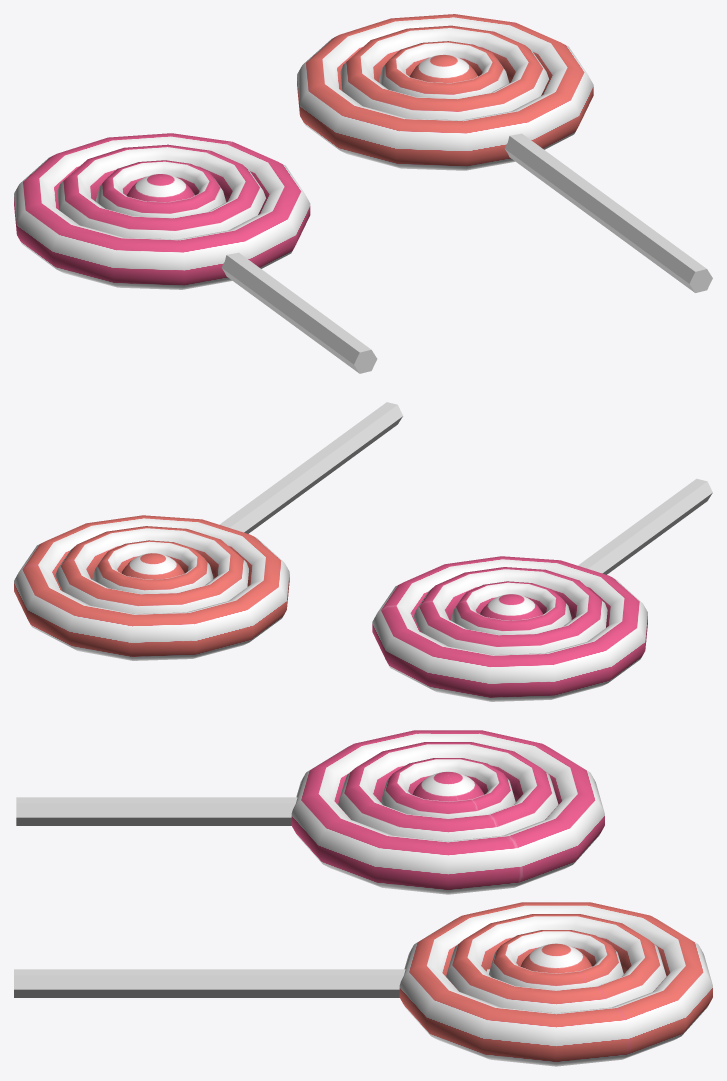
File: candy1.fbx
3 renders of one model, top to bottom at view 1: azimuth 30°, elevation 25°; view 2: azimuth 150°, elevation 25°; view 3: azimuth 270°, elevation 25°, orthographic. The views are drawn at different scales.
Parts seen in each view (by area): view 1: pasted__pTorus1, pTorus1, pasted__pTorus2, pTorus2, pasted__pCylinder1, pCylinder1, pTorus3, pasted__pTorus3, pSphere1, pasted__pSphere1; view 2: pasted__pTorus1, pTorus1, pTorus2, pasted__pTorus2, pasted__pCylinder1, pasted__pTorus3, pTorus3, pCylinder1, pasted__pSphere1, pSphere1; view 3: pasted__pTorus1, pTorus1, pasted__pCylinder1, pTorus2, pasted__pTorus2, pCylinder1, pTorus3, pasted__pTorus3, pasted__pSphere1, pSphere1.
Boxes of the visible parts, x1=… form: pasted__pTorus1: x1=297, y1=14, x2=593, y2=170; pTorus1: x1=14, y1=133, x2=310, y2=289; pasted__pTorus2: x1=340, y1=25, x2=548, y2=120; pTorus2: x1=57, y1=144, x2=265, y2=239; pasted__pCylinder1: x1=504, y1=133, x2=712, y2=292; pCylinder1: x1=221, y1=252, x2=377, y2=373; pTorus3: x1=96, y1=160, x2=226, y2=217; pasted__pTorus3: x1=379, y1=41, x2=509, y2=98; pSphere1: x1=126, y1=174, x2=194, y2=202; pasted__pSphere1: x1=409, y1=54, x2=477, y2=82; pasted__pTorus1: x1=14, y1=515, x2=289, y2=660; pTorus1: x1=372, y1=556, x2=647, y2=701; pTorus2: x1=413, y1=567, x2=607, y2=654; pasted__pTorus2: x1=55, y1=526, x2=248, y2=613; pasted__pCylinder1: x1=219, y1=402, x2=402, y2=533; pasted__pTorus3: x1=92, y1=540, x2=213, y2=593; pTorus3: x1=450, y1=581, x2=571, y2=634; pCylinder1: x1=578, y1=478, x2=712, y2=574; pasted__pSphere1: x1=121, y1=553, x2=184, y2=579; pSphere1: x1=480, y1=594, x2=543, y2=620; pasted__pTorus1: x1=399, y1=902, x2=712, y2=1066; pTorus1: x1=291, y1=730, x2=604, y2=894; pasted__pCylinder1: x1=14, y1=969, x2=489, y2=997; pTorus2: x1=338, y1=742, x2=558, y2=841; pasted__pTorus2: x1=446, y1=914, x2=666, y2=1013; pCylinder1: x1=16, y1=797, x2=297, y2=825; pTorus3: x1=380, y1=758, x2=515, y2=818; pasted__pTorus3: x1=489, y1=930, x2=623, y2=990; pasted__pSphere1: x1=520, y1=943, x2=591, y2=973; pSphere1: x1=412, y1=771, x2=483, y2=801.
Bounding box in the file's own units: 17.93 × 2 × 17.46.
Materials: 4 (2 with a texture image).
